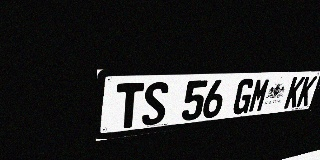5: (181, 80, 208, 121)
6: (201, 79, 227, 119)
G: (231, 78, 256, 115)
K: (283, 76, 306, 109), (296, 76, 317, 107)
M: (247, 78, 271, 113)
S: (141, 81, 169, 126)
T: (115, 82, 144, 129)
